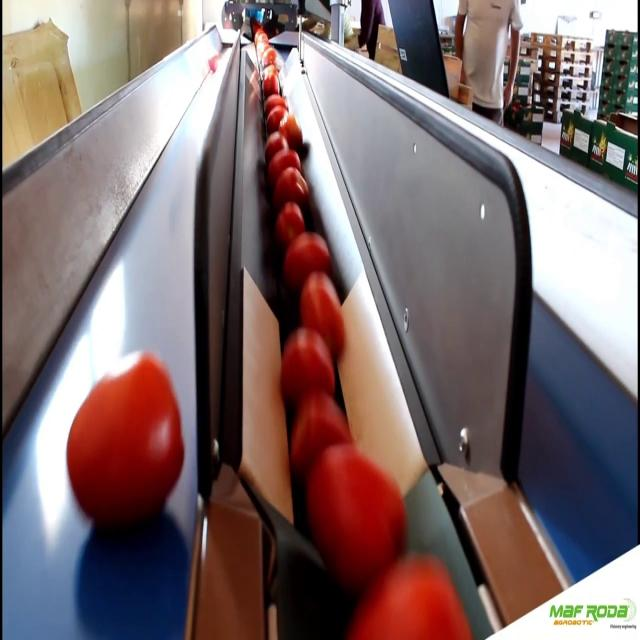Tomato: (67, 347, 187, 532), (309, 446, 413, 571), (353, 556, 482, 640), (290, 396, 358, 464), (280, 327, 335, 405), (302, 278, 346, 355), (286, 232, 326, 290), (273, 170, 312, 200), (279, 204, 304, 238), (278, 112, 303, 143), (268, 152, 310, 170), (264, 132, 284, 162), (266, 97, 287, 117), (207, 51, 223, 77), (262, 68, 278, 94)
